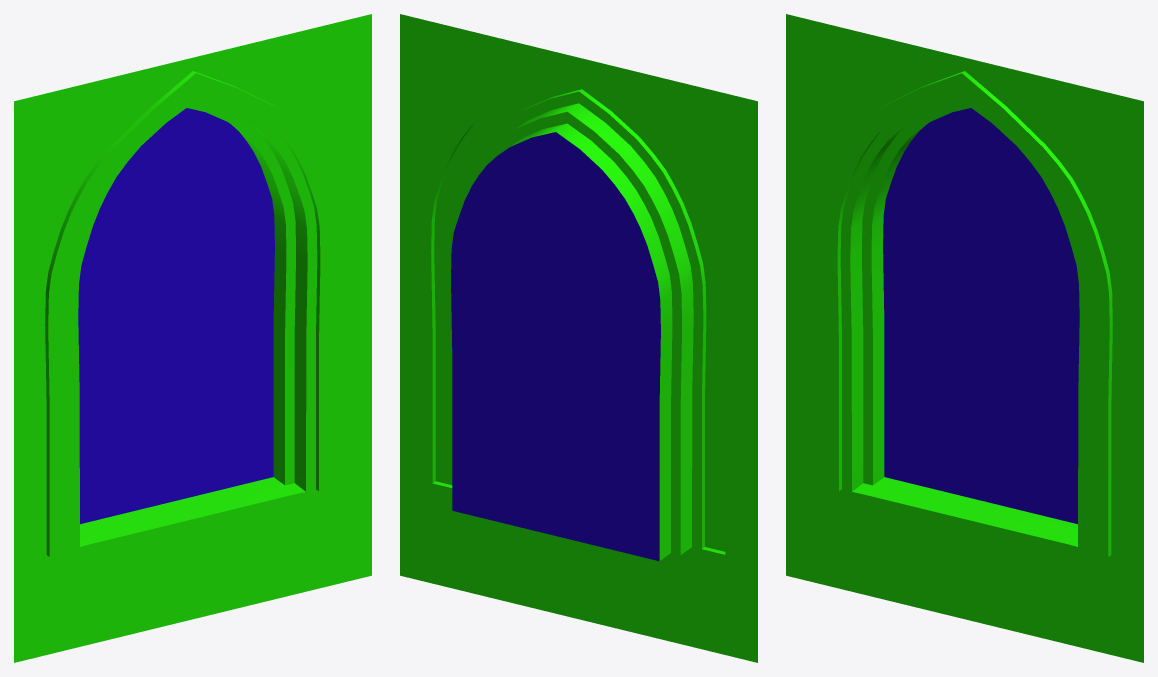
File: Window_3.fbx
3 renders of one model, left to right at view 1: azimuth 30°, elevation 25°; view 2: azimuth 150°, elevation 25°; view 3: azimuth 330°, elevation 25°, orthographic.
Visible parts, largest first — view 1: Window_3; view 2: Window_3; view 3: Window_3.
Part boxes in pixels (<box>): Window_3: <box>14,14,371,662</box>; Window_3: <box>400,14,757,662</box>; Window_3: <box>786,14,1143,662</box>.
Bounding box in the file's own units: 400 × 600 × 50.62.
